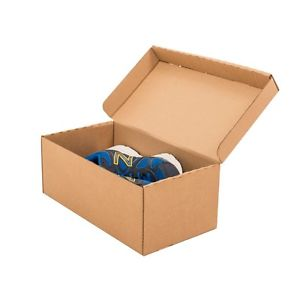Rec_Paper: (32, 34, 279, 259)
